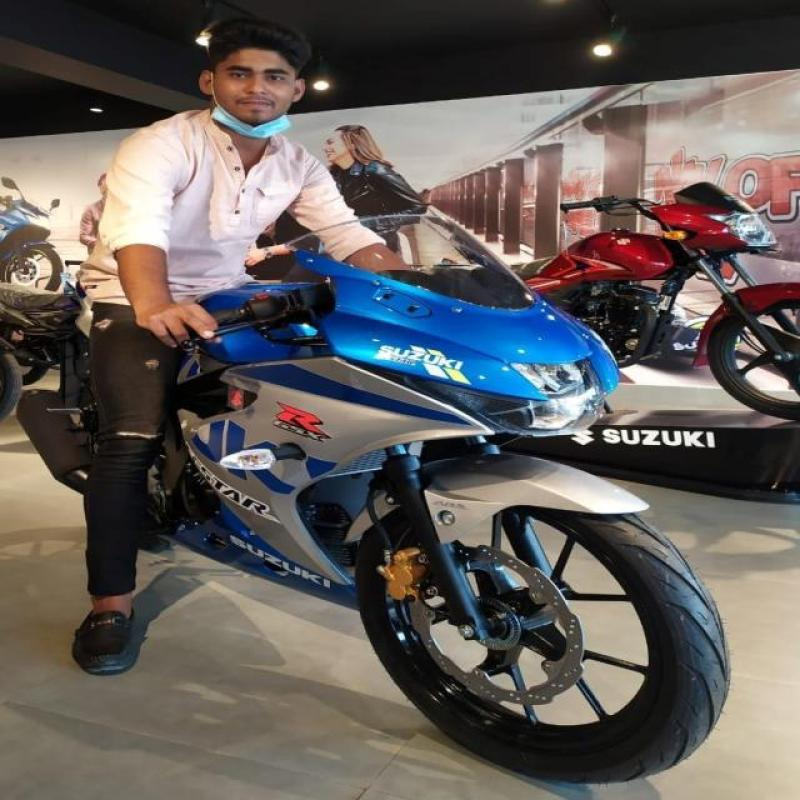nohelmet: (185, 6, 330, 136)
